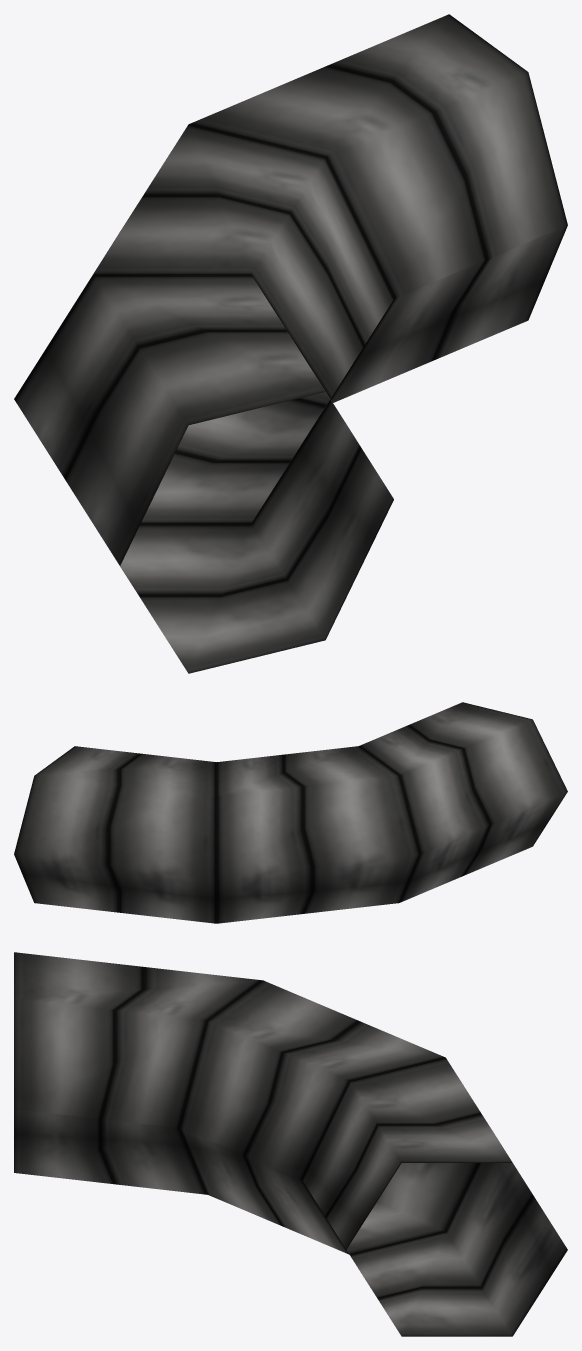
The model's file is small_ribbed_4_elbow_hz.fbx.
3 renders of one model, top to bottom at view 1: azimuth 30°, elevation 25°; view 2: azimuth 150°, elevation 25°; view 3: azimuth 270°, elevation 25°, orthographic. The views are drawn at different scales.
Parts seen in each view (by area): view 1: allPipes:pTorus11; view 2: allPipes:pTorus11; view 3: allPipes:pTorus11.
Part boxes in pixels (x1,y1,x2,y2): allPipes:pTorus11: (14,14,567,673); allPipes:pTorus11: (14,702,567,923); allPipes:pTorus11: (14,952,567,1336).
Bounding box in the file's own units: 0.625 × 0.2165 × 0.625.
